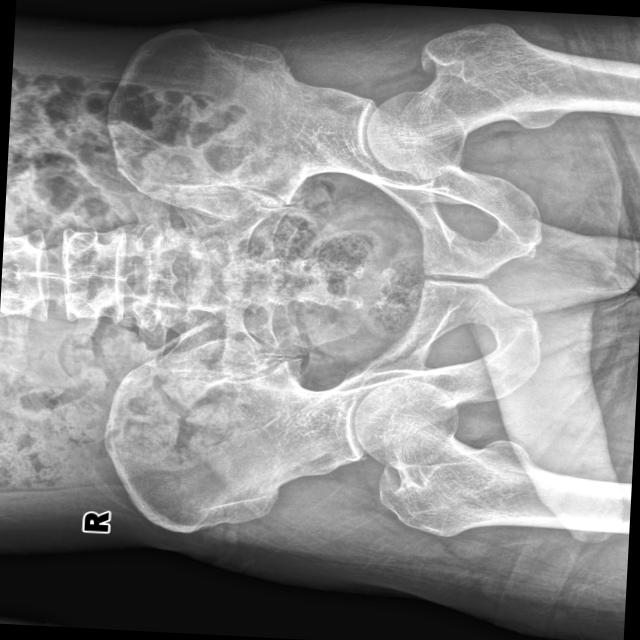normal-left: (367, 22, 640, 178)
normal-right: (355, 378, 632, 536)
